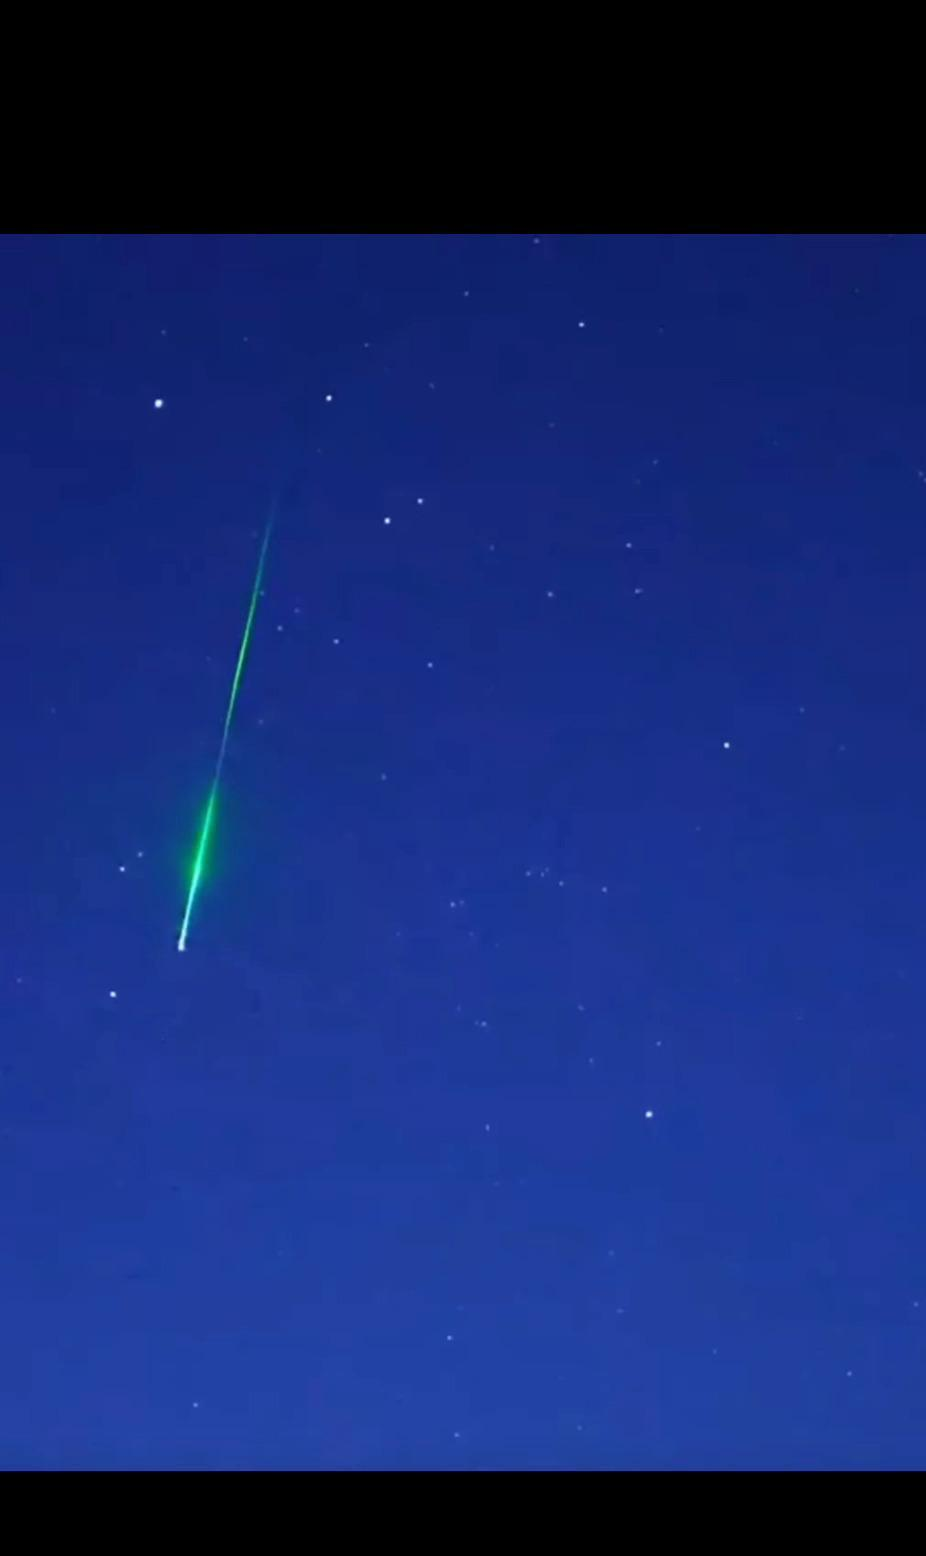meteorite: (161, 473, 306, 985)
